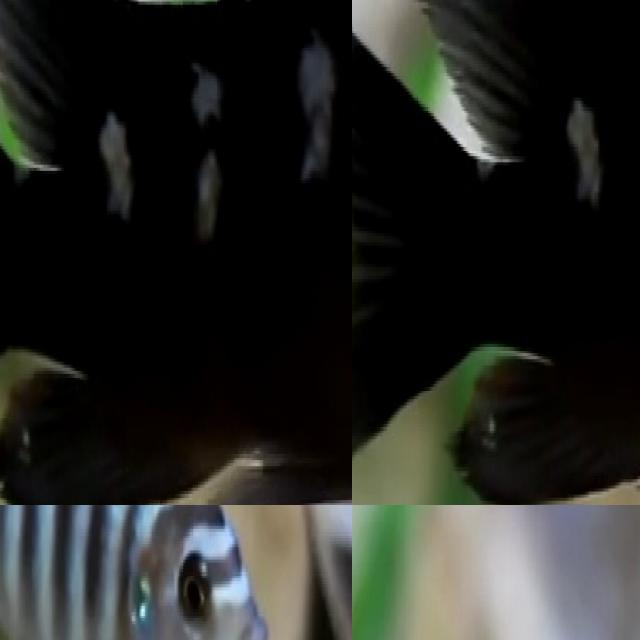fish: (0, 0, 352, 505), (352, 0, 640, 505)
